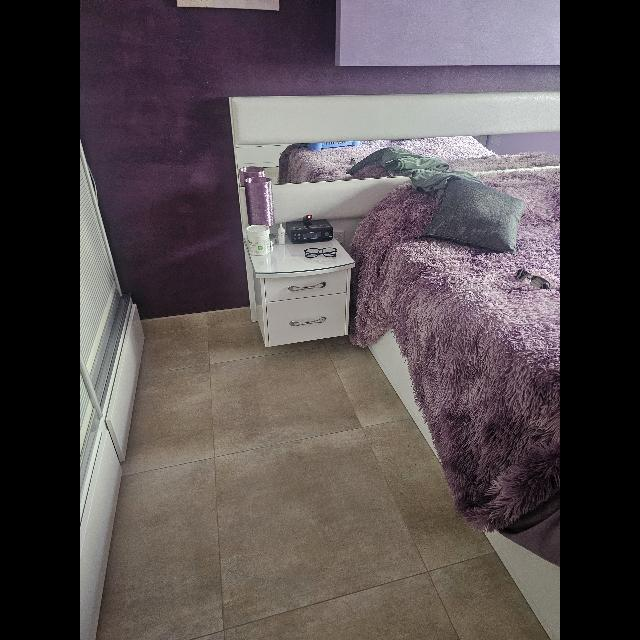Sunglasses: (516, 269, 550, 289)
glasses: (304, 246, 338, 258)
